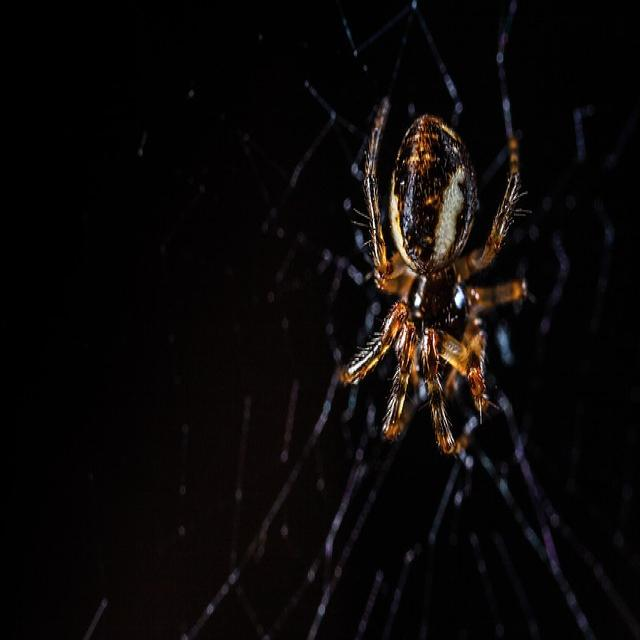spyder: (341, 101, 526, 453)
